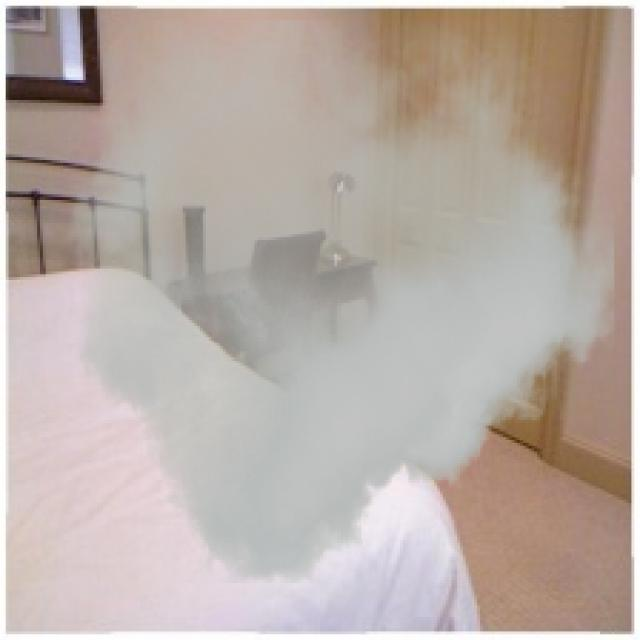smoke: (69, 20, 614, 583)
